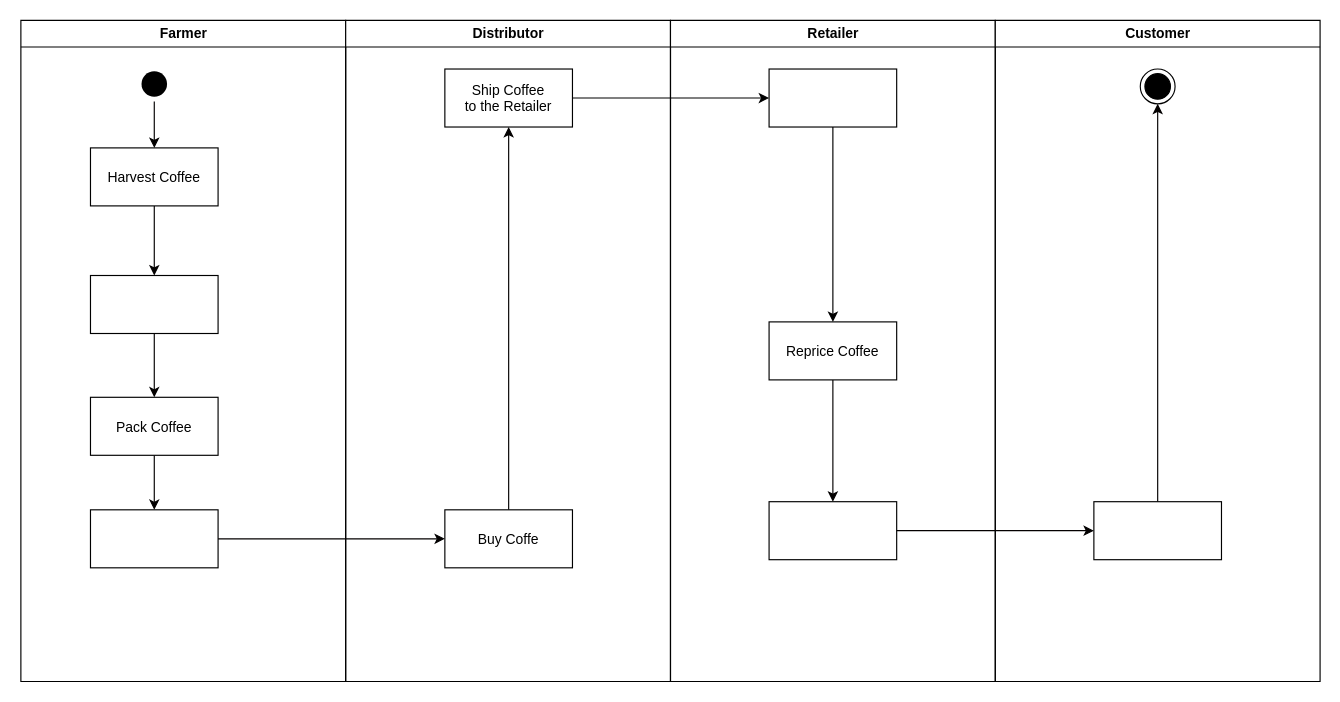
The diagram is 1340 pixels wide and 702 high, and some of its shapes have lost their labels. Each missing label, with the centre of its shape:
Buy Coffee: point 1157,530
Meet Customer: point 832,530
Process Coffee: point 153,304
Receive Coffee from its Distributor: point 832,97
Sell Coffee to a Distributor: point 153,538
